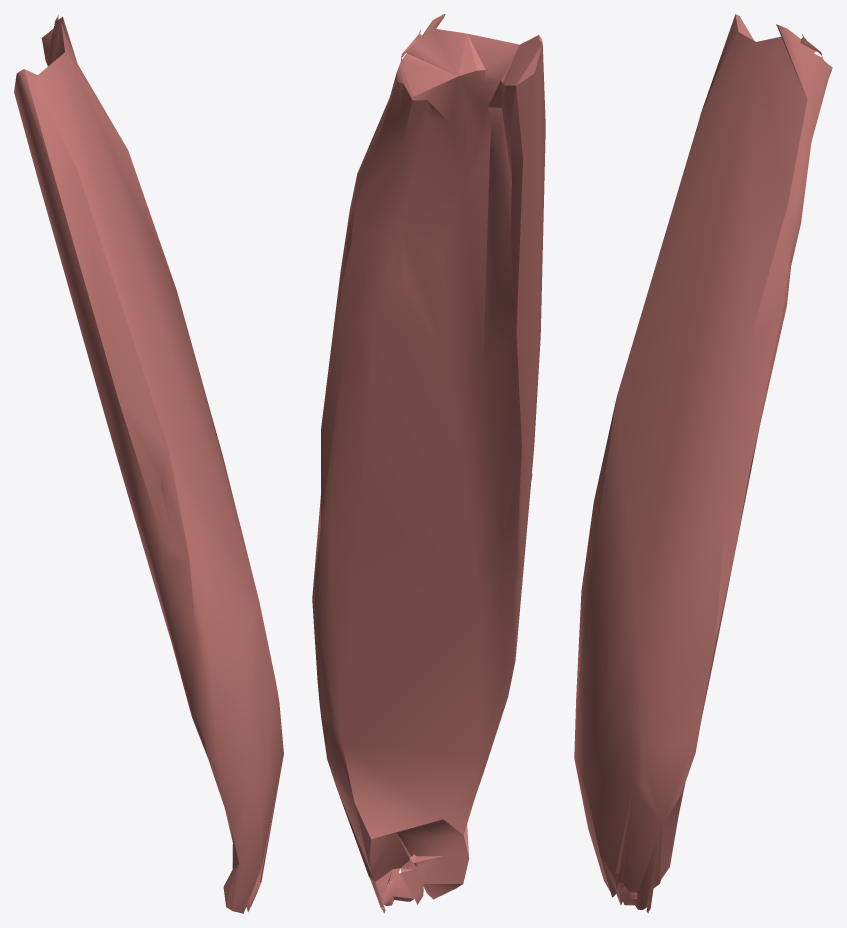
File: fma37396_fj1466.glb
The picture shows the model from 3 angles, left to right: view 1: azimuth 30°, elevation 25°; view 2: azimuth 150°, elevation 25°; view 3: azimuth 270°, elevation 25°; orthographic projection. The views are drawn at different scales.
Parts seen in each view (by area): view 1: FMA37396_FJ1466; view 2: FMA37396_FJ1466; view 3: FMA37396_FJ1466.
Part boxes in pixels (x1,y1,x2,y2): FMA37396_FJ1466: (14, 14, 283, 913); FMA37396_FJ1466: (312, 14, 545, 913); FMA37396_FJ1466: (574, 14, 832, 913).
Bounding box in the file's own units: 0.0174 × 0.065 × 0.0183.
